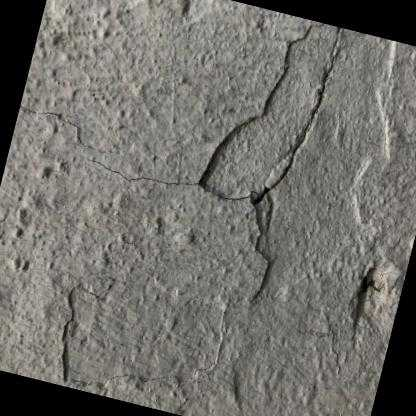crack: (18, 25, 347, 305)
